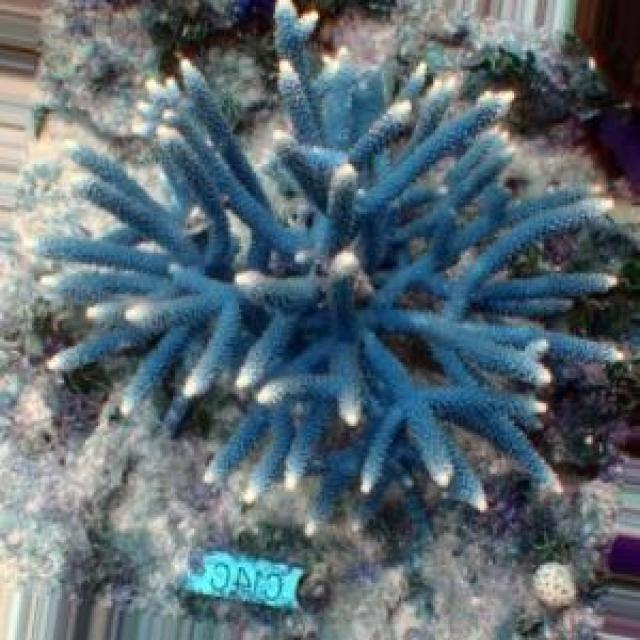Healthy: (35, 1, 640, 609)
